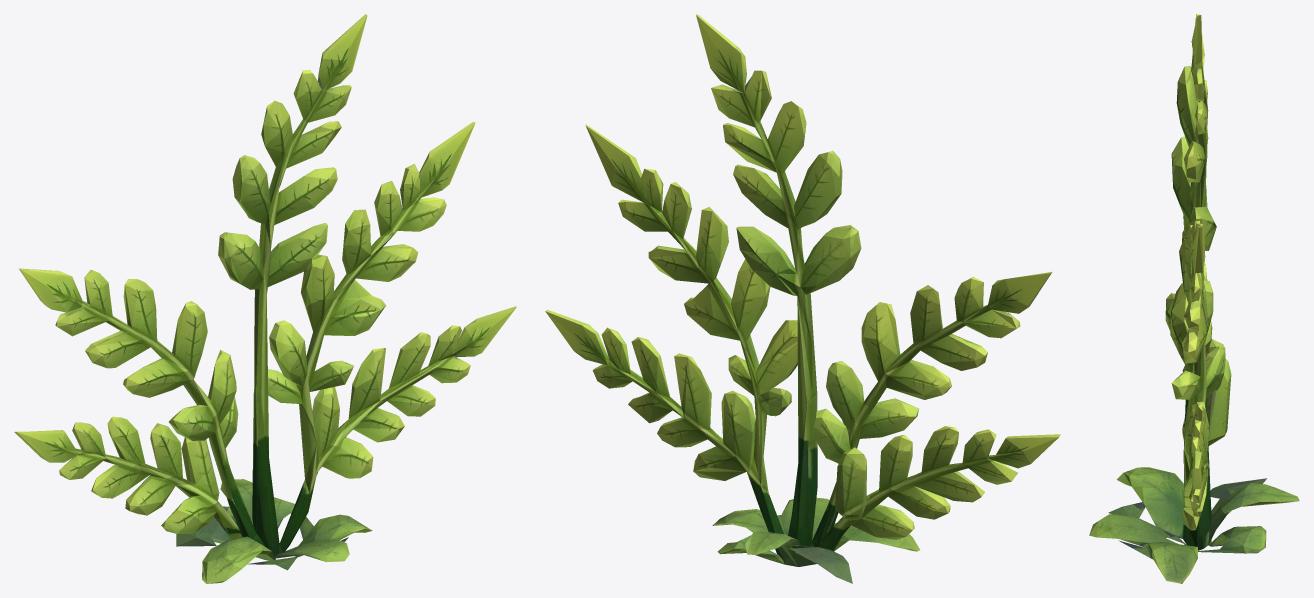
The model's file is fern.glb.
3 views of the same model, side by side, from view 1: azimuth 30°, elevation 25°; view 2: azimuth 150°, elevation 25°; view 3: azimuth 270°, elevation 25° (orthographic). The views are drawn at different scales.
Visible parts, largest first — view 1: GLTF; view 2: GLTF; view 3: GLTF.
Part boxes in pixels (x1,y1,x2,y2): GLTF: (14, 14, 516, 583); GLTF: (545, 14, 1060, 583); GLTF: (1089, 14, 1299, 583).
Size of the model in its own units: 1.76 by 1.72 by 0.562.
1 material, 1 textured.
